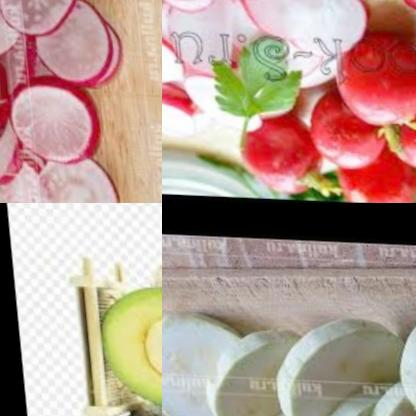avocado: (90, 273, 162, 405)
rediska: (0, 0, 129, 203), (162, 0, 368, 80), (334, 21, 416, 128), (233, 108, 323, 199), (299, 84, 383, 172), (178, 75, 279, 141), (330, 146, 414, 203), (377, 97, 416, 172), (162, 71, 200, 143), (162, 16, 187, 96)
vegetable marrow: (162, 295, 416, 416)
